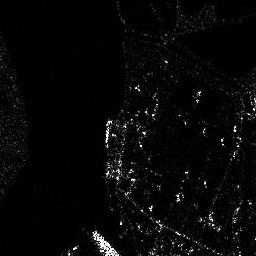ship: (91, 230, 122, 256)
